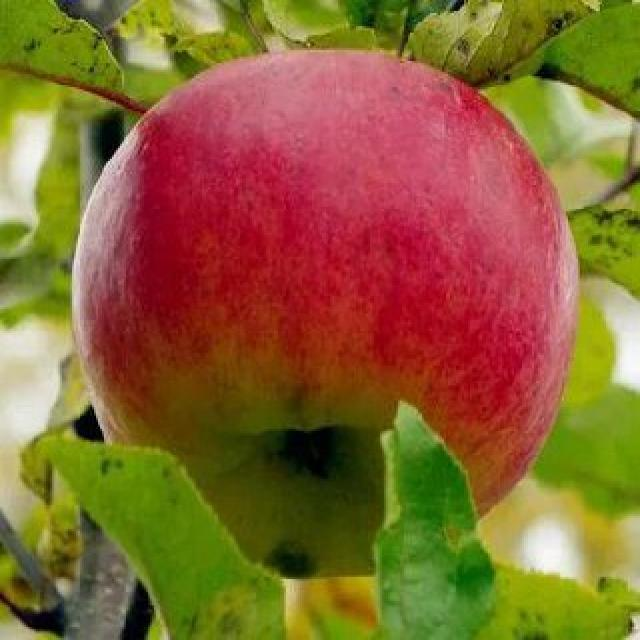Fresh Apple: (61, 58, 576, 417)
